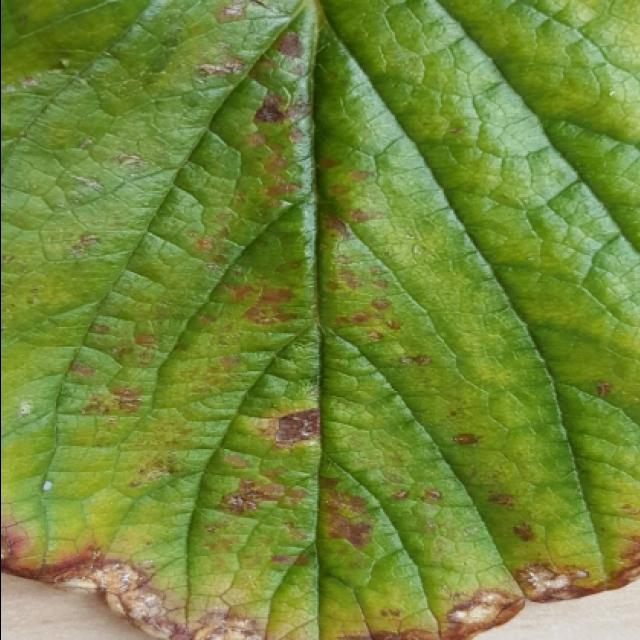Angular Leafspot: (2, 2, 640, 640)
